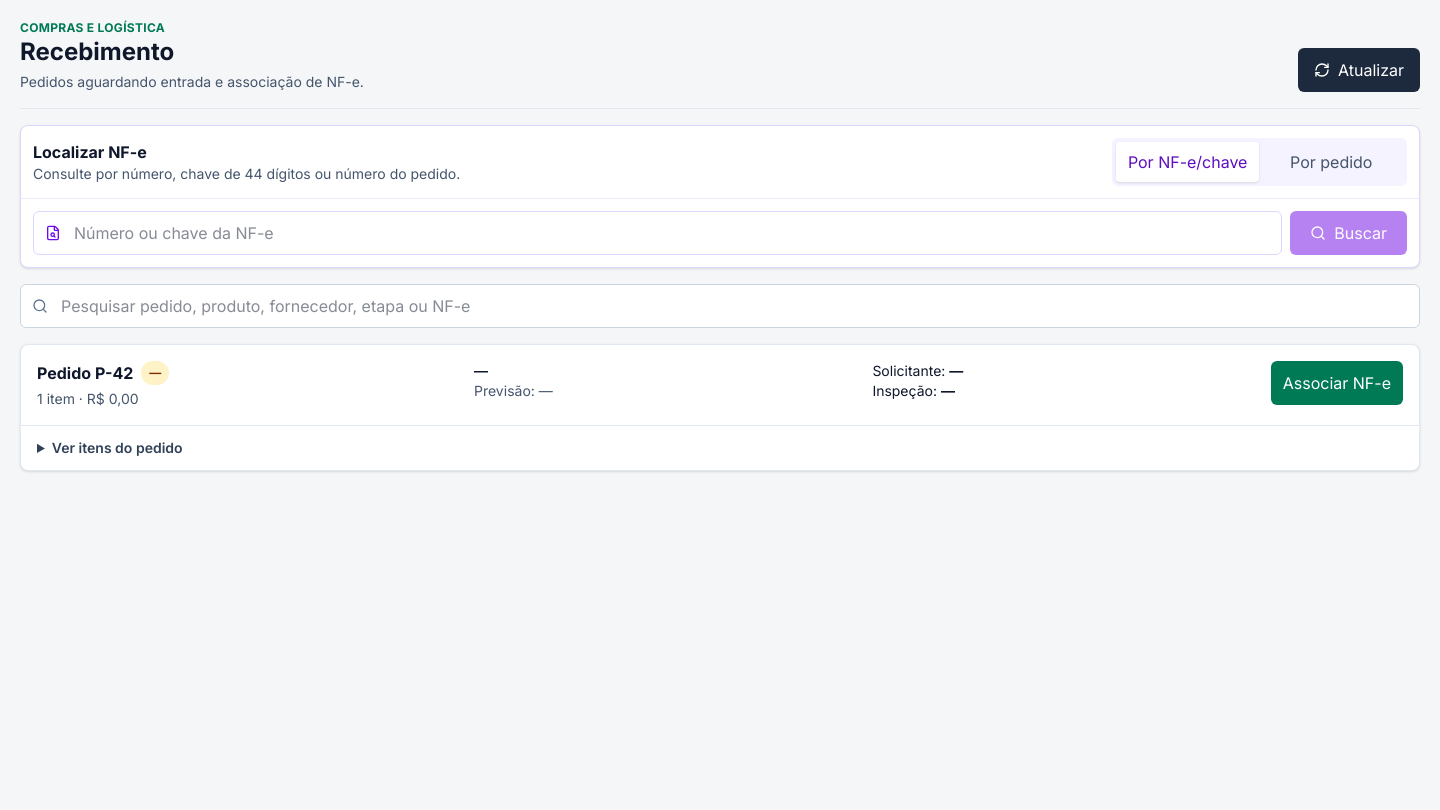
Scenario: ReceivingScreen states › exige remapeamento e nova prévia antes de habilitar confirmação
Click the button "Associar NF-e": point(1337, 383) top-left (1271, 361), bottom-right (1403, 405)
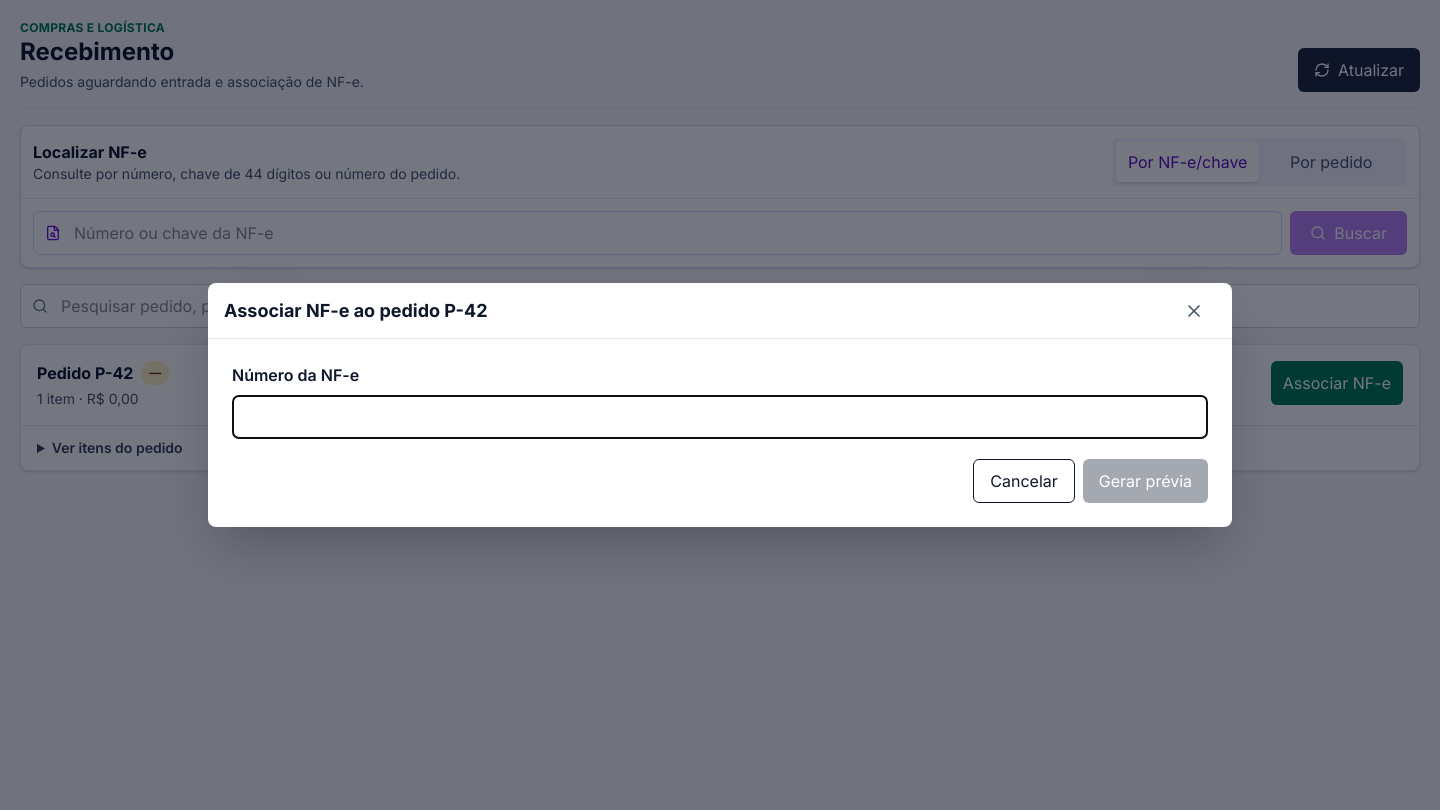
In the field labelled "Número da NF-e": point(720, 417) top-left (232, 395), bottom-right (1208, 439), type "123"
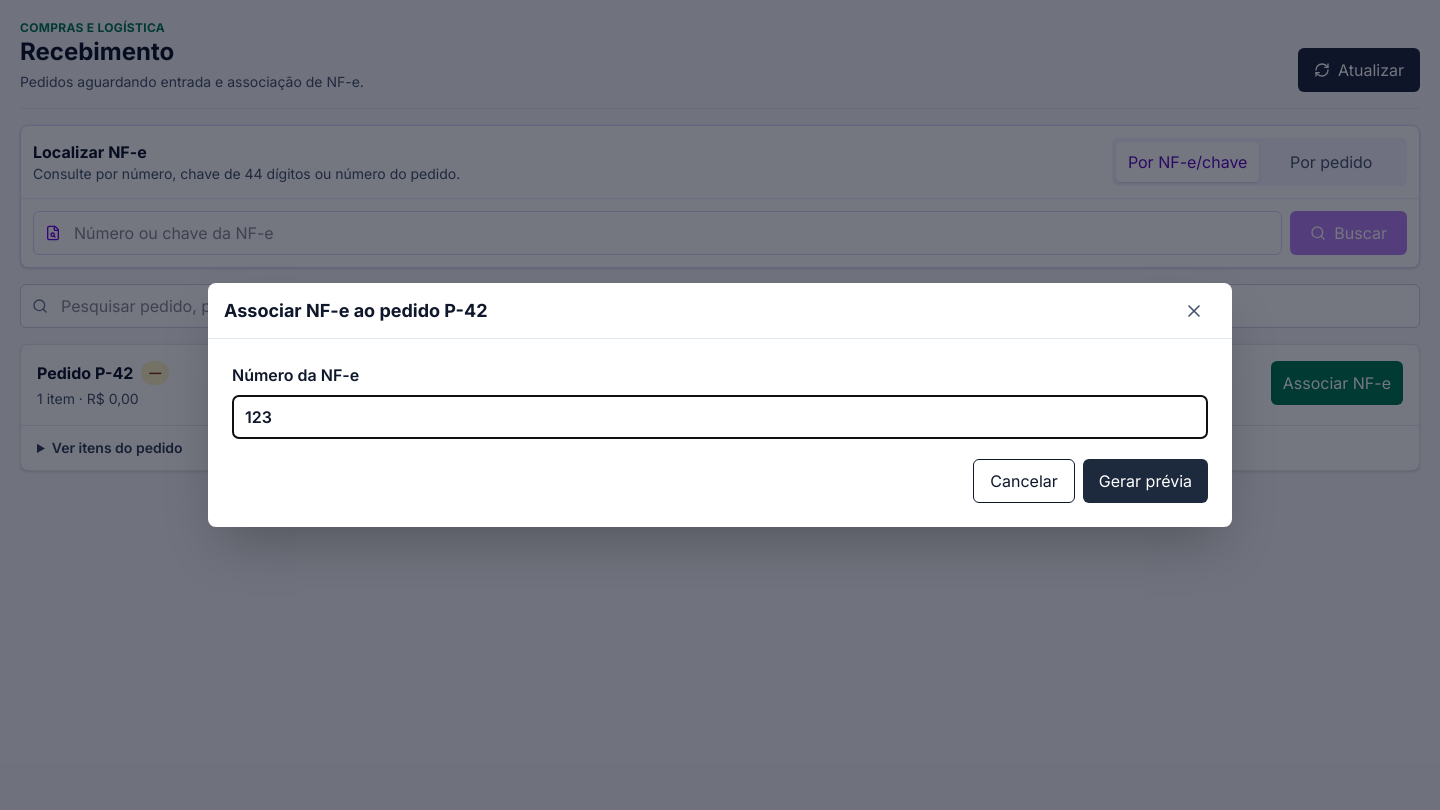
Click the button "Gerar prévia": point(1145, 481) top-left (1083, 459), bottom-right (1208, 503)
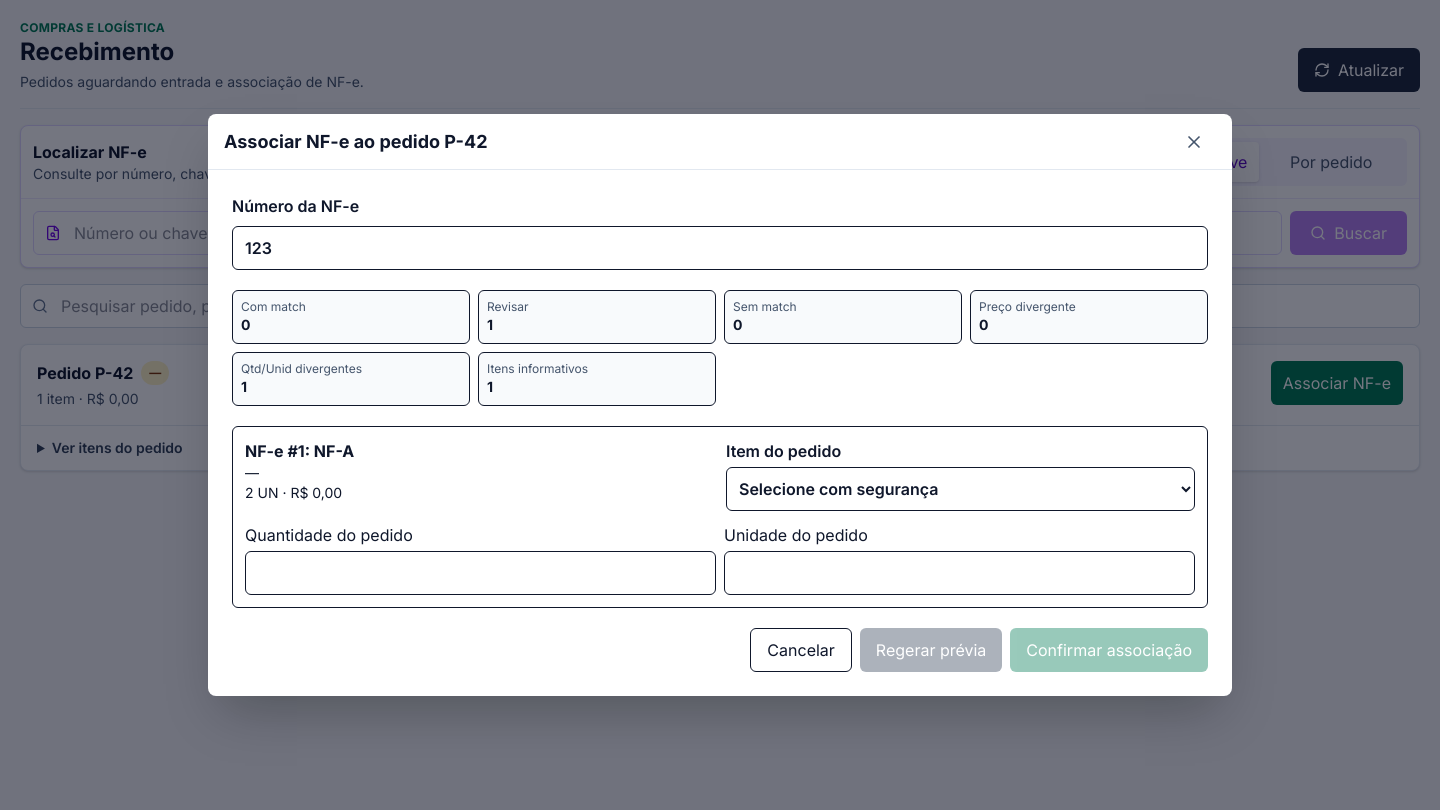
Now the button "Confirmar associação" is disabled, box top-left (1010, 628), bottom-right (1208, 672)
Select "PED-A · — · 2 UN" in the dropdown named "Item do pedido para sequência 1": point(960, 489) top-left (726, 467), bottom-right (1195, 511)
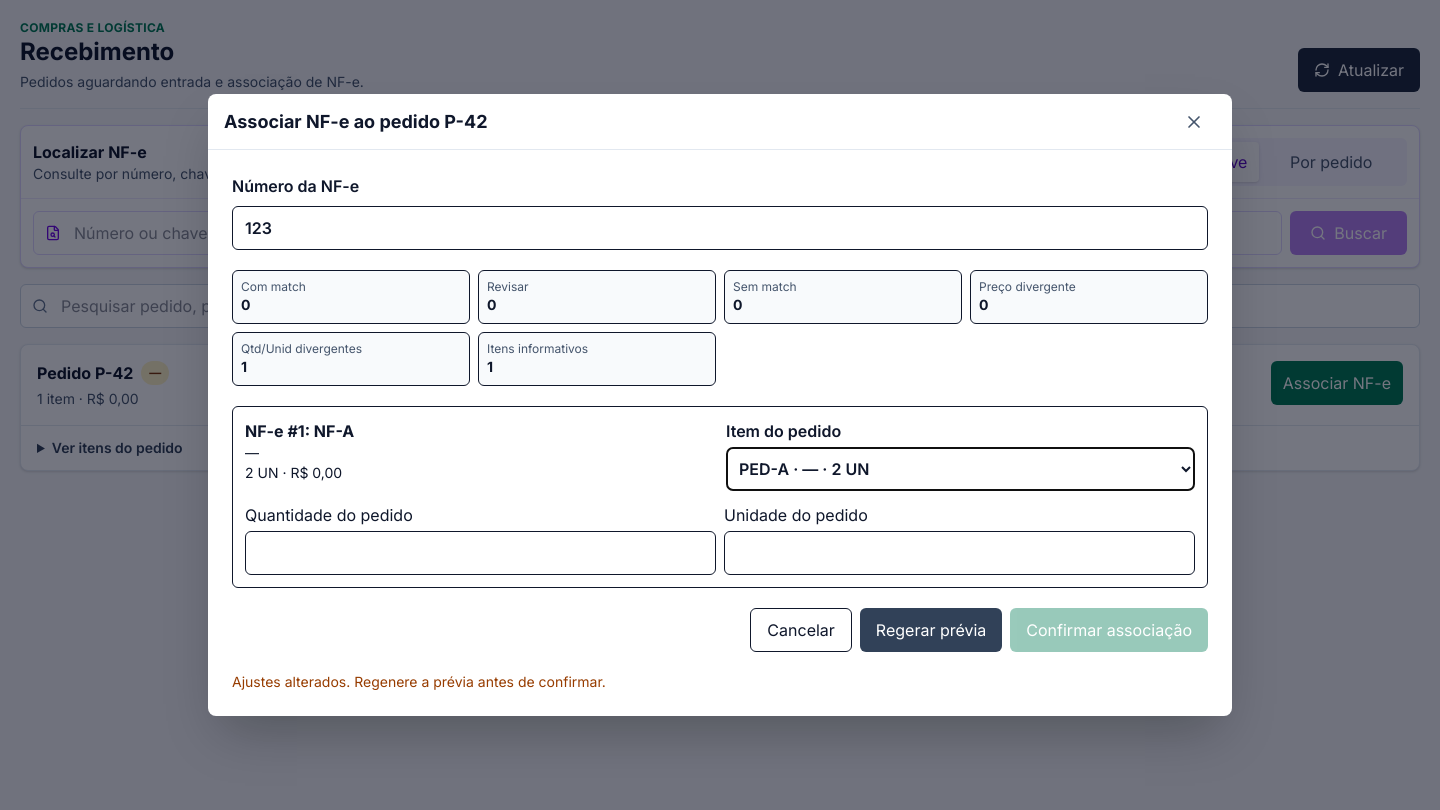
Now the button "Confirmar associação" is disabled, box top-left (1010, 608), bottom-right (1208, 652)
Now the text "Ajustes alterados. Regenere a prévia antes de confirmar." is shown, box top-left (232, 673), bottom-right (606, 690)
Click the button "Regerar prévia": point(931, 630) top-left (860, 608), bottom-right (1002, 652)
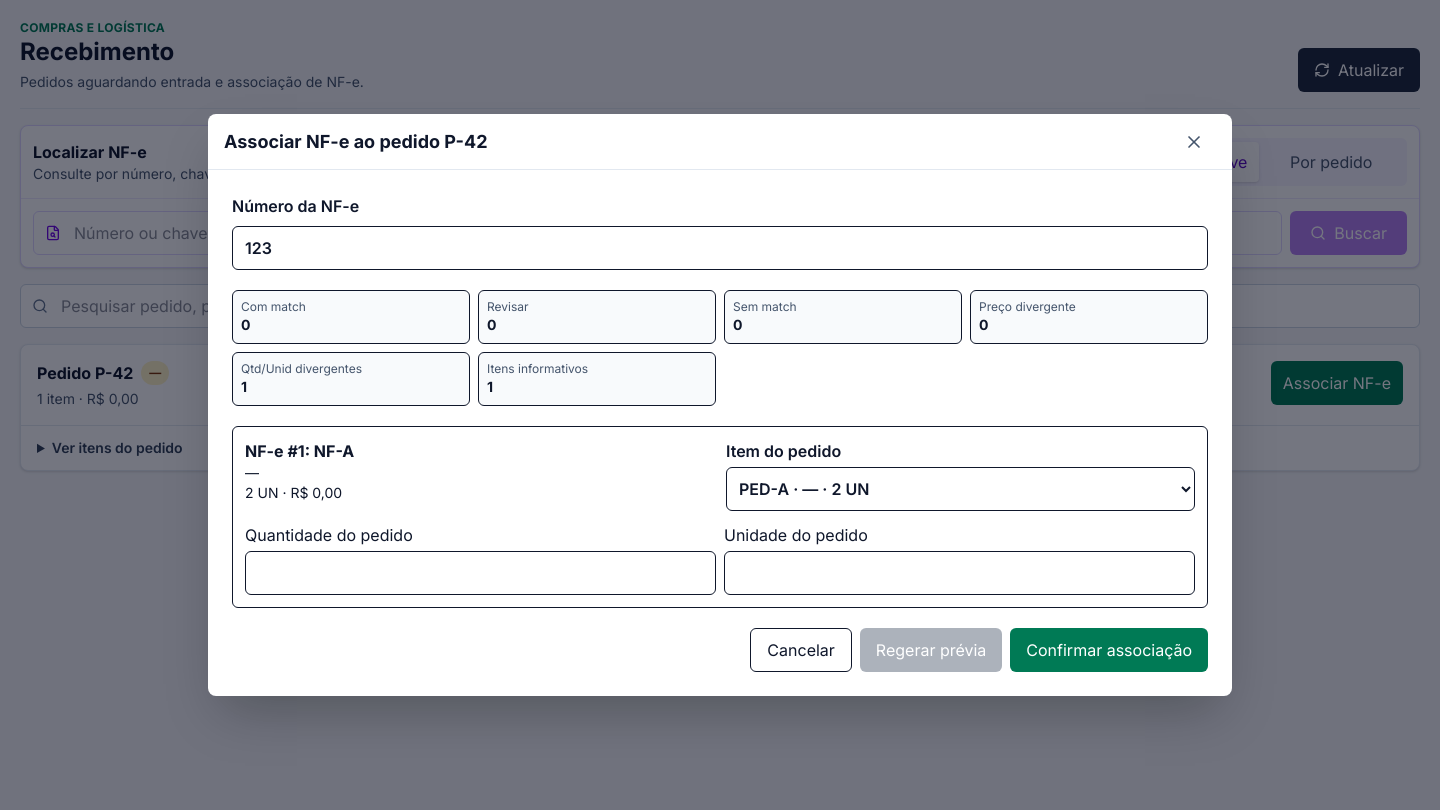
Now the button "Confirmar associação" is enabled, box top-left (1010, 628), bottom-right (1208, 672)
